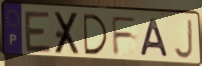A: (139, 18, 170, 59)
D: (81, 13, 110, 57)
E: (23, 10, 54, 55)
F: (110, 16, 139, 57)
J: (172, 18, 194, 60)
X: (53, 11, 82, 56)
